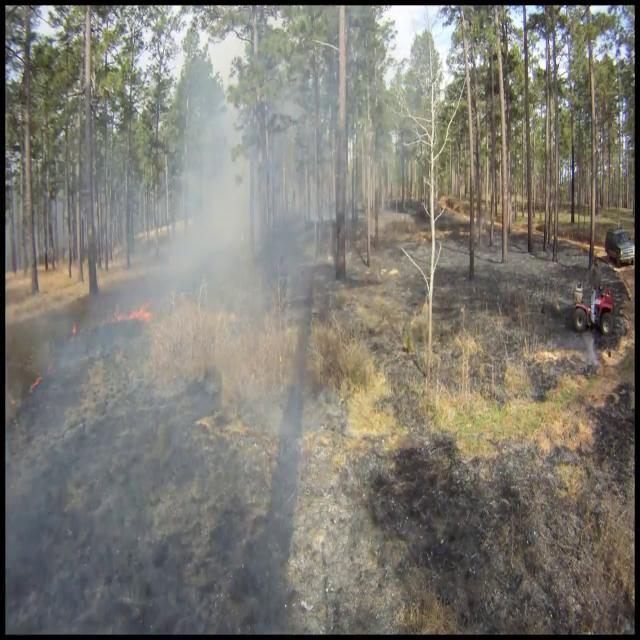Smoke: (17, 34, 360, 578)
